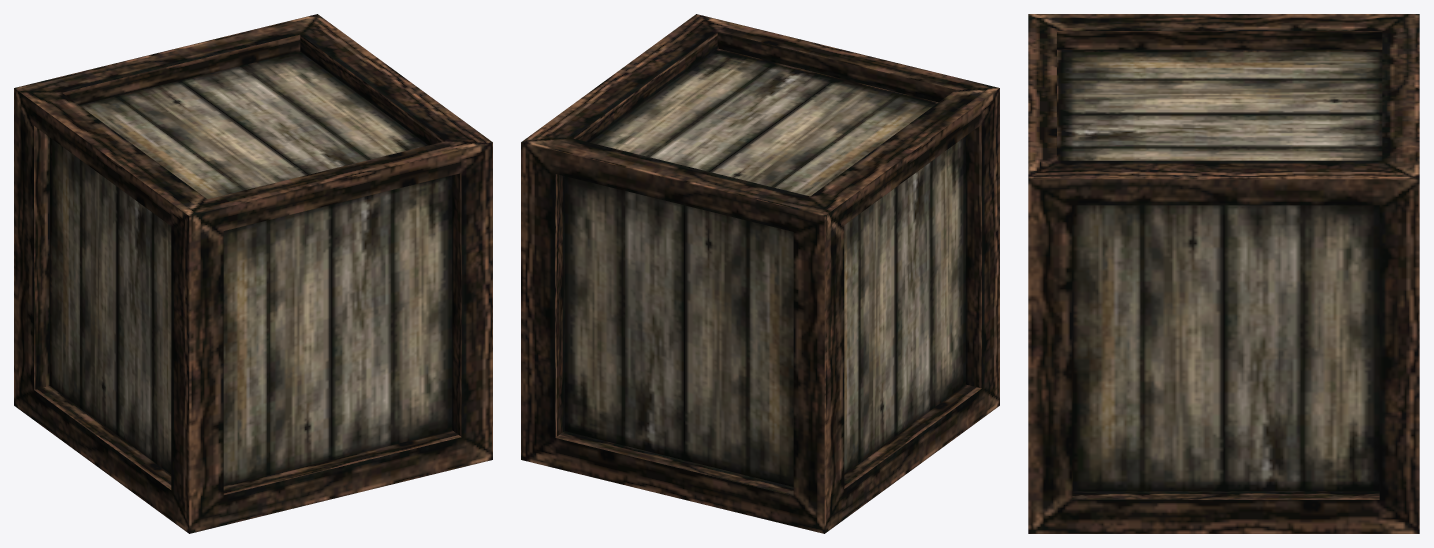
Rendered from INST_LAKETOWN_CRATEDIRTY.fbx.
3 views of the same model, side by side, from view 1: azimuth 30°, elevation 25°; view 2: azimuth 150°, elevation 25°; view 3: azimuth 270°, elevation 25° (orthographic). The views are drawn at different scales.
Visible parts, largest first — view 1: INST_LAKETOWN_CRATEDIRTY; view 2: INST_LAKETOWN_CRATEDIRTY; view 3: INST_LAKETOWN_CRATEDIRTY.
Boxes of the visible parts, x1,y1,x2,y2 form: INST_LAKETOWN_CRATEDIRTY: (14, 14, 492, 533); INST_LAKETOWN_CRATEDIRTY: (521, 14, 999, 533); INST_LAKETOWN_CRATEDIRTY: (1028, 14, 1419, 533).
Bounding box in the file's own units: 7095 × 7095 × 7095.
Materials: 1 (1 with a texture image).
